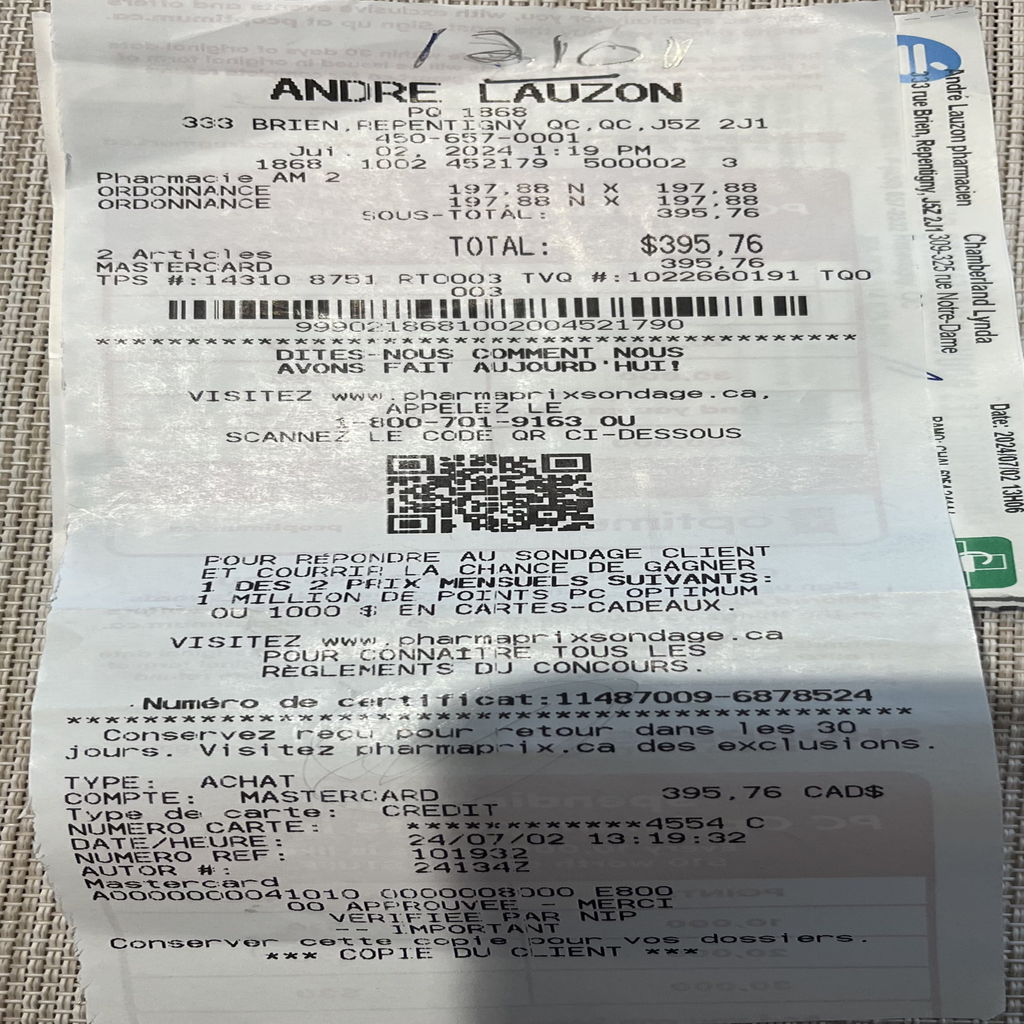recipt: (27, 2, 1006, 1009)
